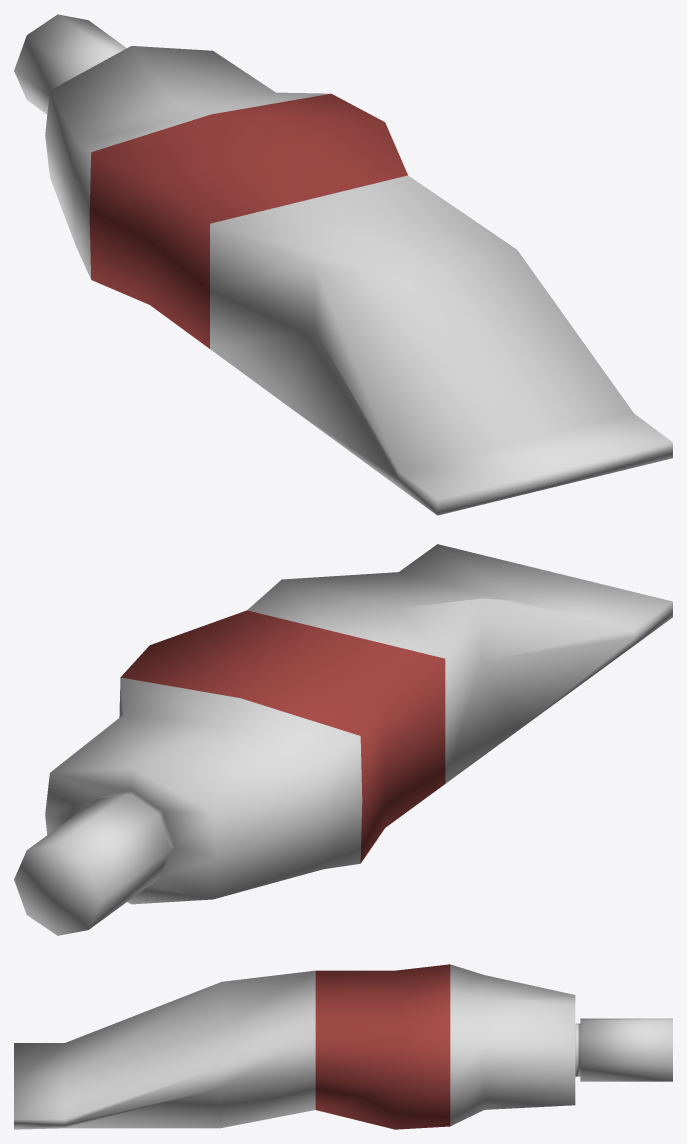
The model's file is foodtube_A.glb.
3 views of the same model, one above another, from view 1: azimuth 30°, elevation 25°; view 2: azimuth 150°, elevation 25°; view 3: azimuth 270°, elevation 25° (orthographic). The views are drawn at different scales.
Visible parts, largest first — view 1: prop_foodtube; view 2: prop_foodtube; view 3: prop_foodtube.
Boxes of the visible parts, box(x1,y1,x2,y2) form: prop_foodtube: box(14, 14, 672, 515); prop_foodtube: box(14, 544, 672, 935); prop_foodtube: box(14, 964, 672, 1129).
Size of the model in its own units: 0.0545 by 0.0298 by 0.1848.
